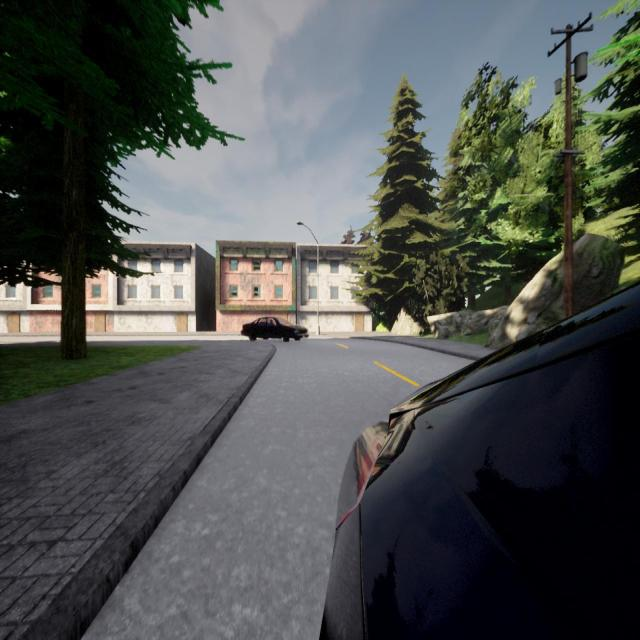Vehicle: (319, 284, 640, 640), (241, 317, 309, 341)
